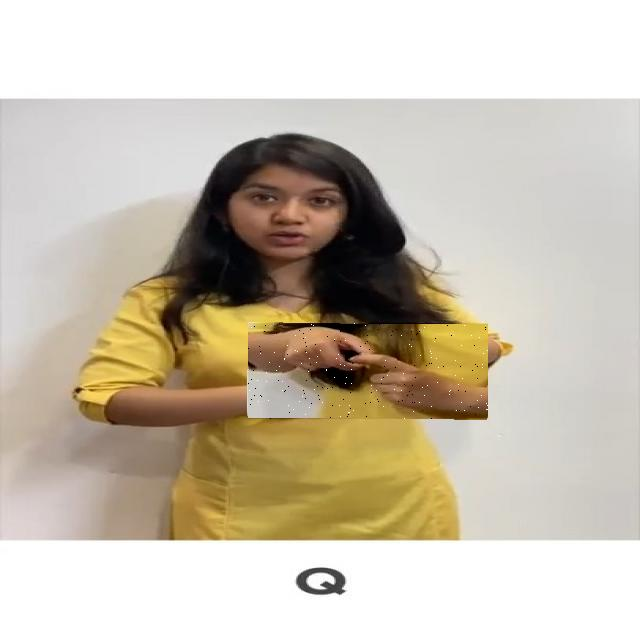Q: (248, 323, 488, 419)
